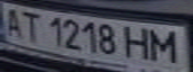1: (78, 19, 100, 55), (42, 15, 63, 47)
2: (60, 16, 81, 51)
8: (96, 20, 121, 56)
A: (0, 5, 27, 39)
H: (124, 24, 154, 61)
M: (145, 27, 187, 63)
T: (15, 9, 45, 43)
